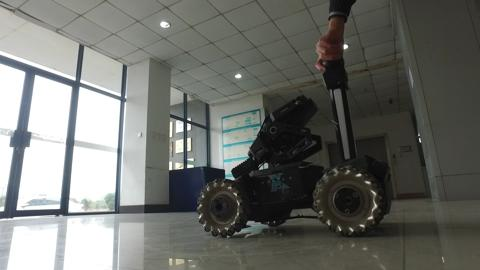chariot: (185, 44, 406, 247)
